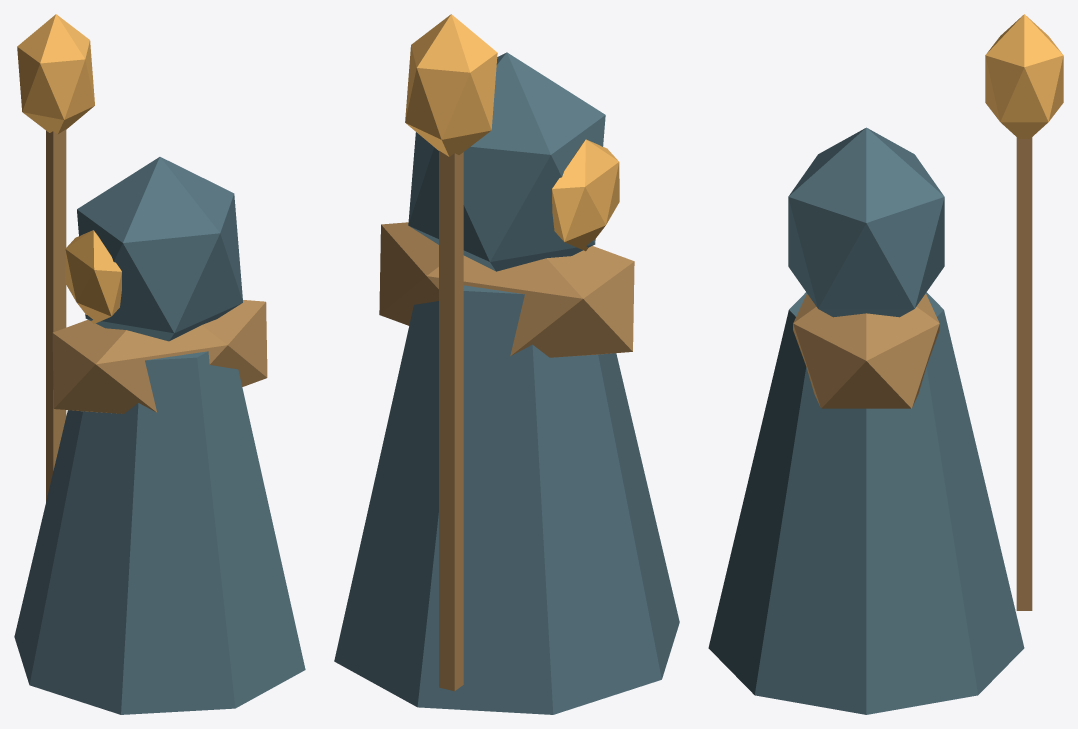
The model's file is SM_Seeker.fbx.
3 views of the same model, side by side, from view 1: azimuth 30°, elevation 25°; view 2: azimuth 150°, elevation 25°; view 3: azimuth 270°, elevation 25° (orthographic). The views are drawn at different scales.
Parts seen in each view (by area): view 1: SM_Seeker; view 2: SM_Seeker; view 3: SM_Seeker.
Part boxes in pixels (left/top/right/bottom): SM_Seeker: left=14, top=14, right=305, bottom=714; SM_Seeker: left=334, top=14, right=679, bottom=714; SM_Seeker: left=708, top=14, right=1063, bottom=714.
Size of the model in its own units: 1.1 by 1.24 by 2.38.
